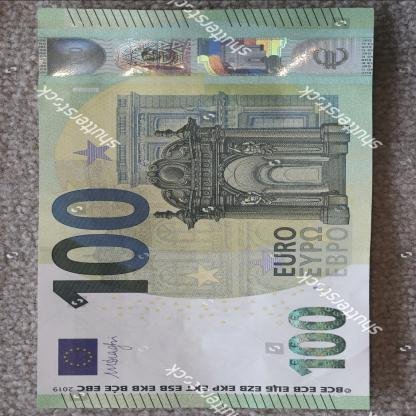euro_banknote: (4, 42, 407, 377)
